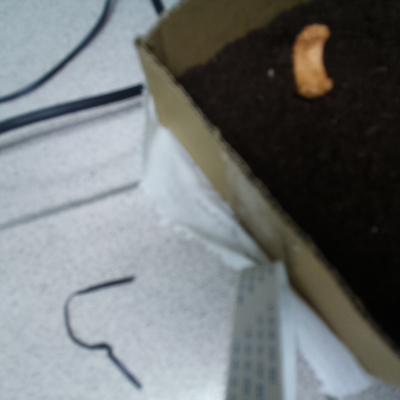eggs: (291, 18, 339, 103)
